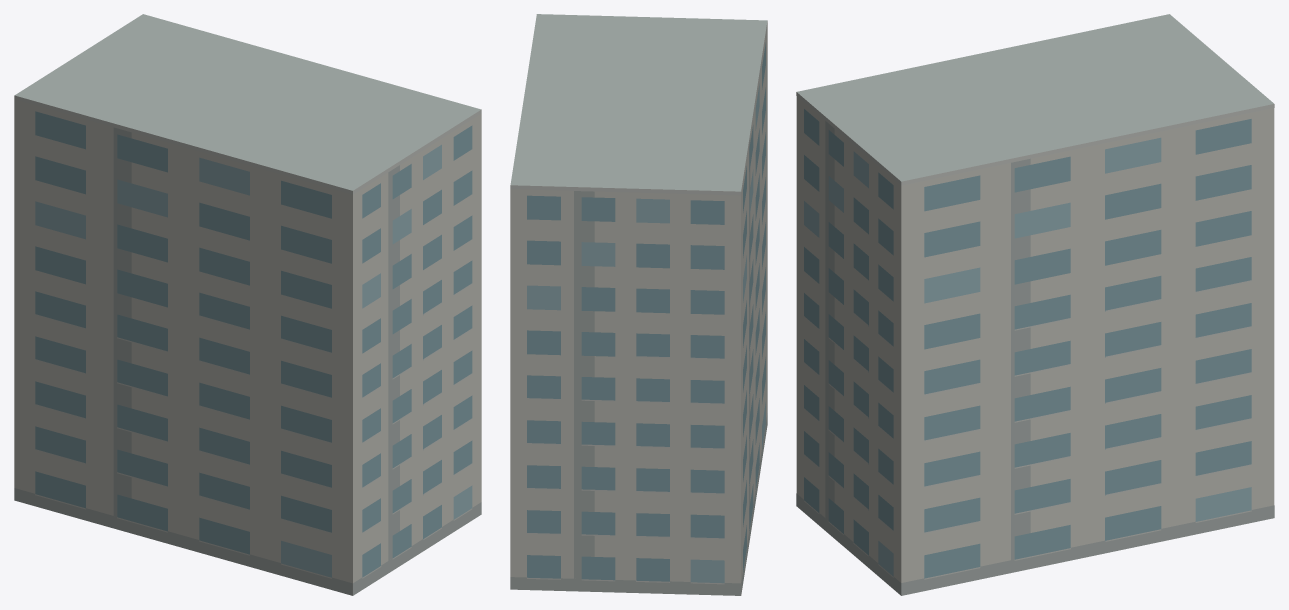
The model's file is residential-c6b16df2-b6ad-4ea8-9518-232f5a4ef23d.glb.
3 views of the same model, side by side, from view 1: azimuth 30°, elevation 25°; view 2: azimuth 150°, elevation 25°; view 3: azimuth 270°, elevation 25° (orthographic). The views are drawn at different scales.
Parts seen in each view (by area): view 1: residential-c6b16df2-b6ad-4ea8-9518-232f5a4ef23d.tmp; view 2: residential-c6b16df2-b6ad-4ea8-9518-232f5a4ef23d.tmp; view 3: residential-c6b16df2-b6ad-4ea8-9518-232f5a4ef23d.tmp.
Part boxes in pixels (x1,y1,x2,y2): residential-c6b16df2-b6ad-4ea8-9518-232f5a4ef23d.tmp: (14, 14, 481, 595); residential-c6b16df2-b6ad-4ea8-9518-232f5a4ef23d.tmp: (510, 14, 767, 595); residential-c6b16df2-b6ad-4ea8-9518-232f5a4ef23d.tmp: (796, 14, 1274, 595).
Size of the model in its own units: 21.7 by 25 by 26.15.
